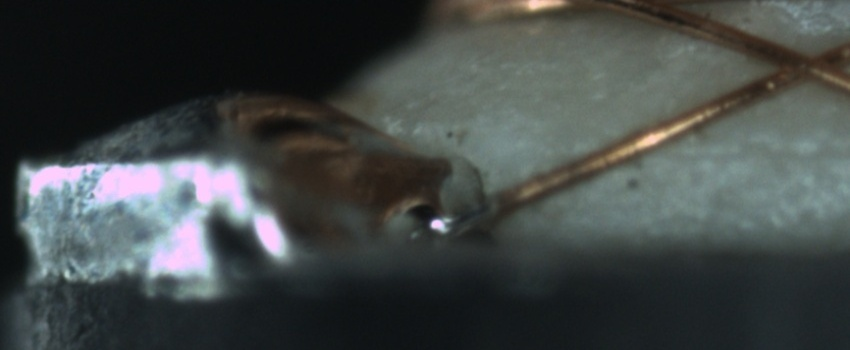CL: (750, 32, 844, 94)
DL: (612, 121, 850, 185)
